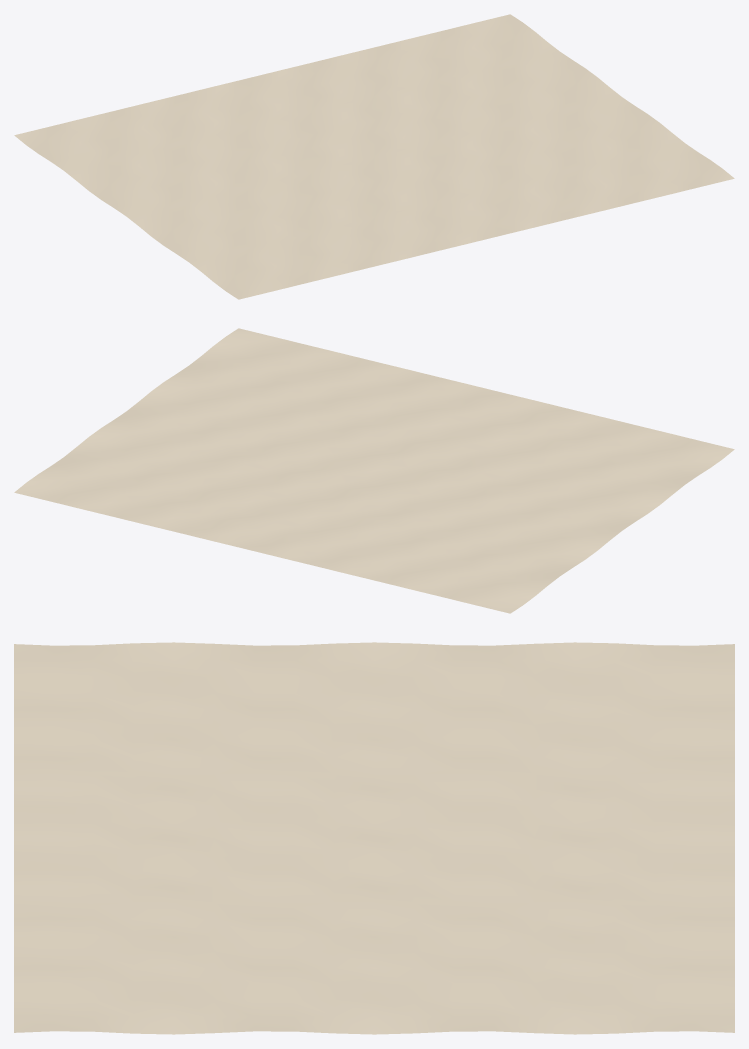
Rendered from work-mat-v2.glb.
3 views of the same model, one above another, from view 1: azimuth 30°, elevation 25°; view 2: azimuth 150°, elevation 25°; view 3: azimuth 270°, elevation 25° (orthographic). The views are drawn at different scales.
Visible parts, largest first — view 1: Woven mat with soft edge; view 2: Woven mat with soft edge; view 3: Woven mat with soft edge.
Boxes of the visible parts, <box> form: Woven mat with soft edge: <box>14,14,734,299</box>; Woven mat with soft edge: <box>14,328,734,613</box>; Woven mat with soft edge: <box>14,642,734,1034</box>.
Size of the model in its own units: 1.48 by 0.006 by 1.16.
